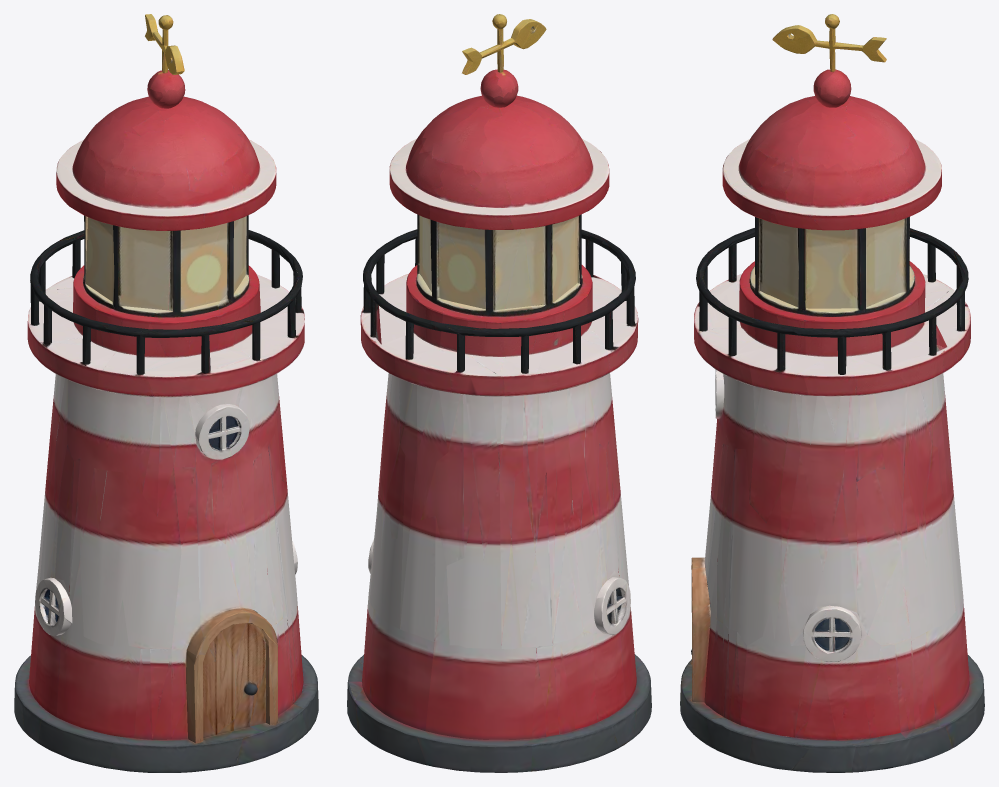
File: lighthouse.glb
3 views of the same model, side by side, from view 1: azimuth 30°, elevation 25°; view 2: azimuth 150°, elevation 25°; view 3: azimuth 270°, elevation 25° (orthographic).
Size of the model in its own units: 0.7569 by 1.9 by 0.7567.
1 material, 1 textured.
